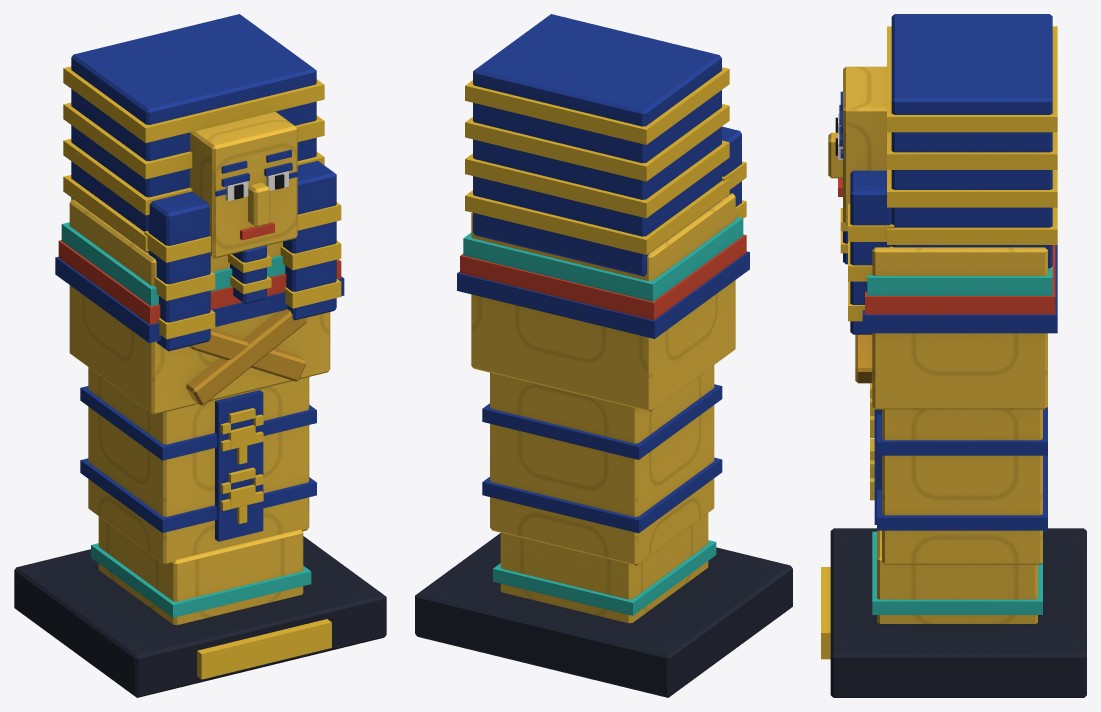
The model's file is EgyptianSarcophagus.fbx.
The picture shows the model from 3 angles, left to right: view 1: azimuth 30°, elevation 25°; view 2: azimuth 150°, elevation 25°; view 3: azimuth 270°, elevation 25°; orthographic projection. The views are drawn at different scales.
Parts seen in each view (by area): view 1: Art_EgyptianSarcophagus; view 2: Art_EgyptianSarcophagus; view 3: Art_EgyptianSarcophagus.
Boxes of the visible parts, <box> form: Art_EgyptianSarcophagus: <box>14,14,386,697</box>; Art_EgyptianSarcophagus: <box>415,14,792,697</box>; Art_EgyptianSarcophagus: <box>821,14,1086,697</box>.
Size of the model in its own units: 1.24 by 2.62 by 1.09.
